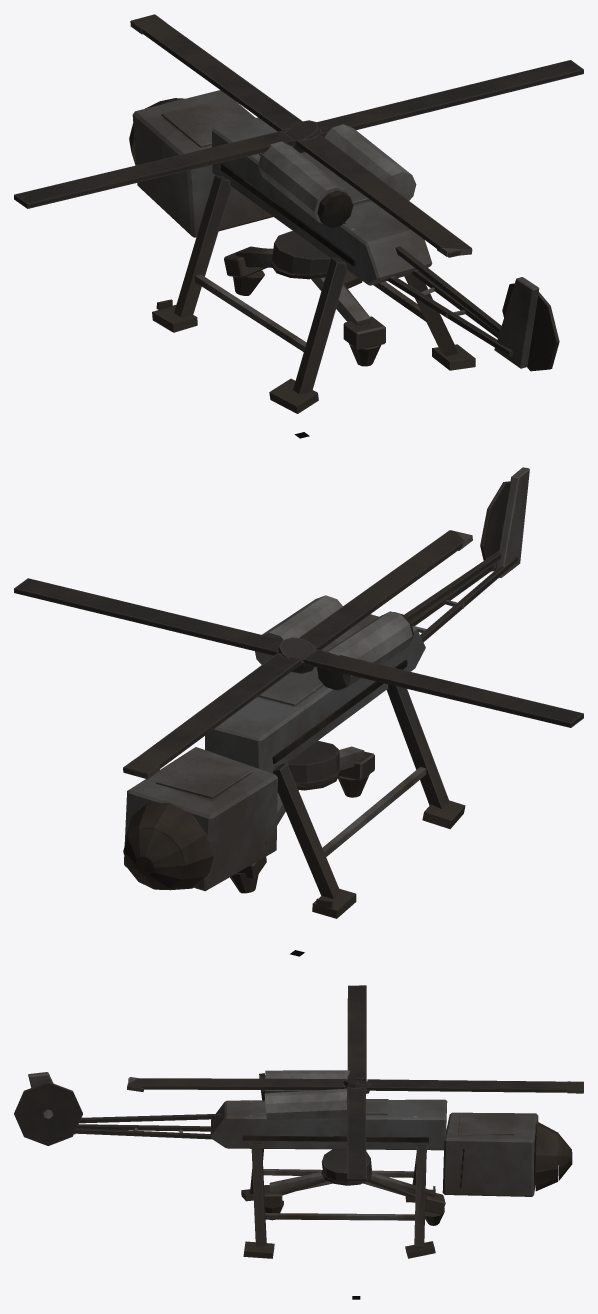
The model's file is chs_condor_wreck.fbx.
3 views of the same model, one above another, from view 1: azimuth 30°, elevation 25°; view 2: azimuth 150°, elevation 25°; view 3: azimuth 270°, elevation 25° (orthographic). The views are drawn at different scales.
Parts seen in each view (by area): view 1: base_bar, rotor_bar, nano_bar, tailRotor_bar; view 2: base_bar, rotor_bar, nano_bar, tailRotor_bar; view 3: base_bar, rotor_bar, nano_bar, tailRotor_bar.
Part boxes in pixels (x1=…): base_bar: x1=129, y1=90, x2=539, y2=413; rotor_bar: x1=14, y1=14, x2=583, y2=257; nano_bar: x1=224, y1=231, x2=385, y2=366; tailRotor_bar: x1=502, y1=283, x2=559, y2=371; base_bar: x1=123, y1=467, x2=529, y2=918; rotor_bar: x1=14, y1=530, x2=583, y2=779; nano_bar: x1=230, y1=740, x2=374, y2=893; tailRotor_bar: x1=480, y1=481, x2=510, y2=571; base_bar: x1=28, y1=1070, x2=572, y2=1258; rotor_bar: x1=127, y1=985, x2=583, y2=1181; nano_bar: x1=264, y1=1149, x2=445, y2=1225; tailRotor_bar: x1=14, y1=1081, x2=82, y2=1145.
Size of the model in its own units: 1111 by 605 by 1391.
2 materials, 2 textured.
